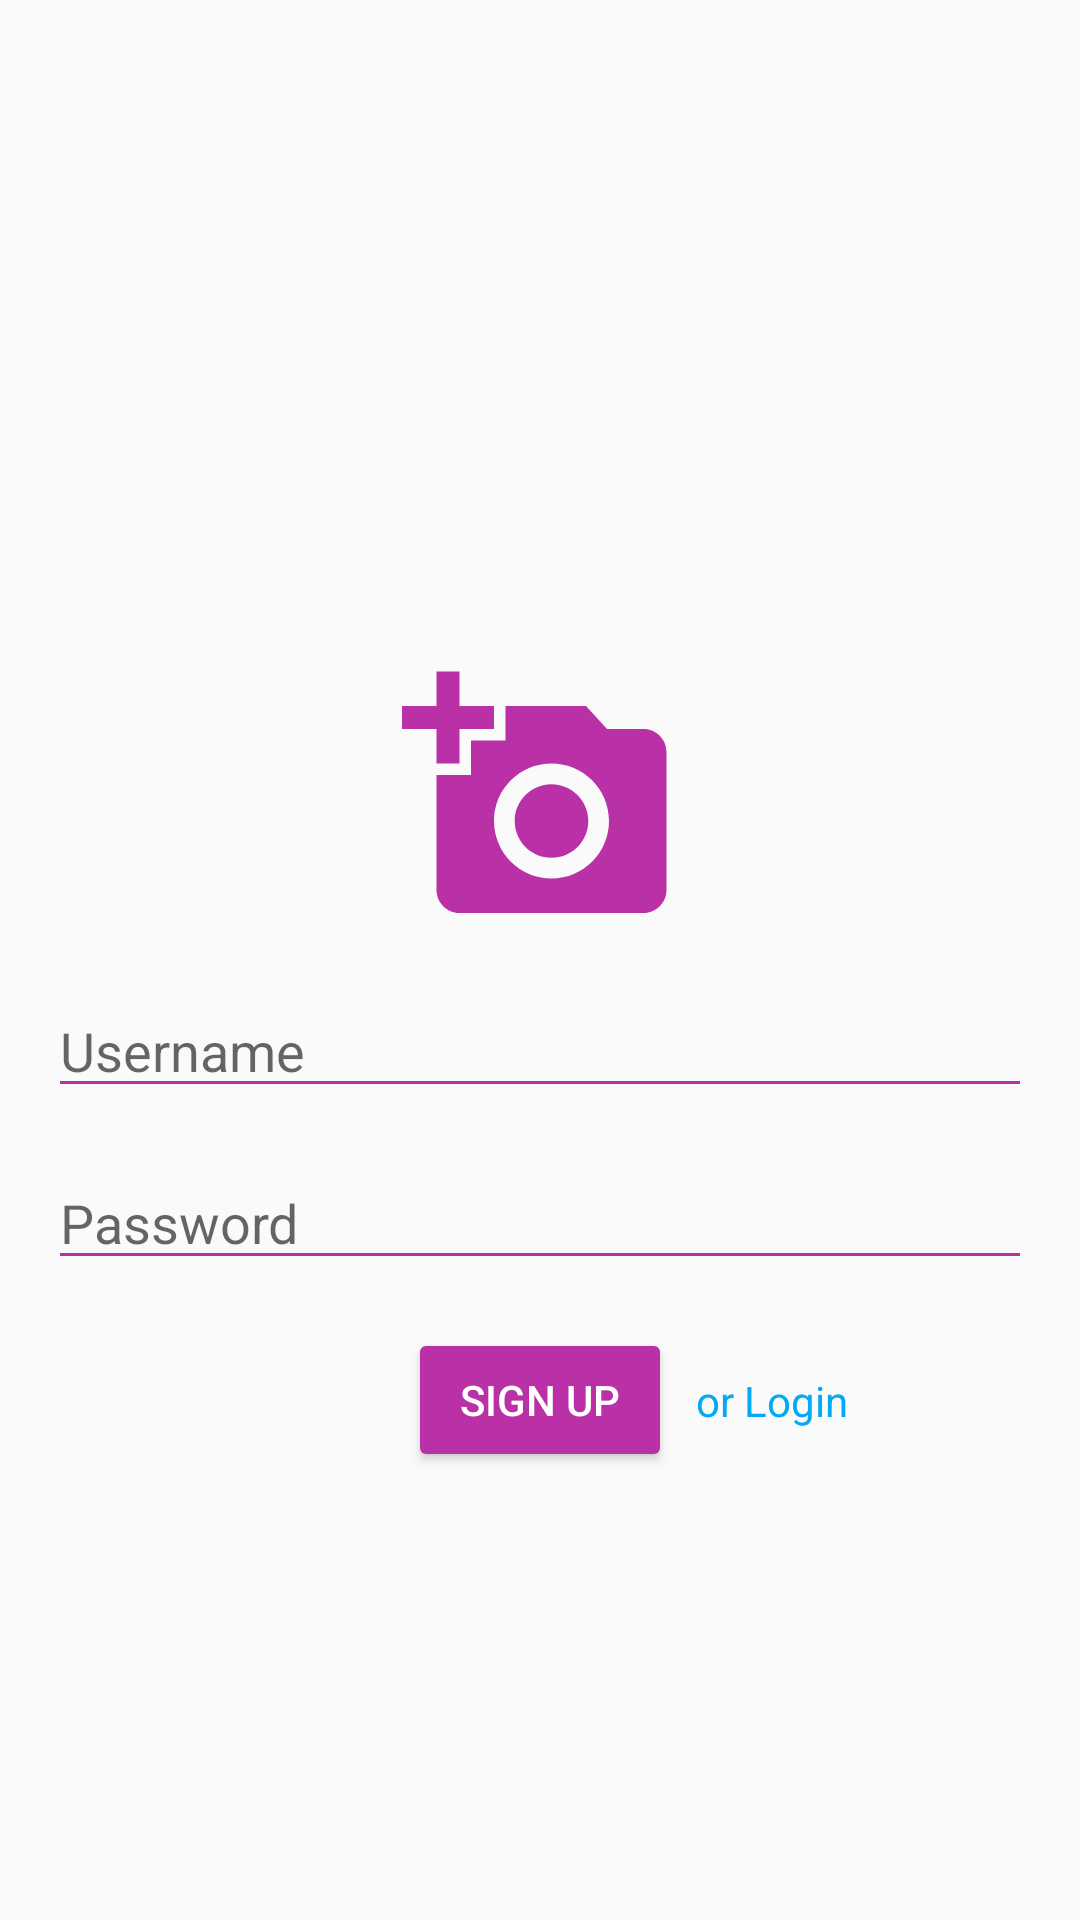

Icons on this 1080 x 1920 Android screen, each with its box as (x1, y1, x2, y2):
camera: (402, 671, 667, 913)
